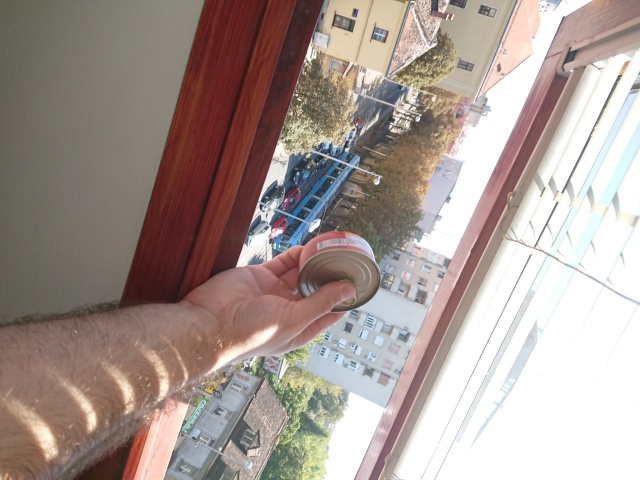Gavrilovic Pork Liver Pate 100g: (294, 228, 383, 315)
